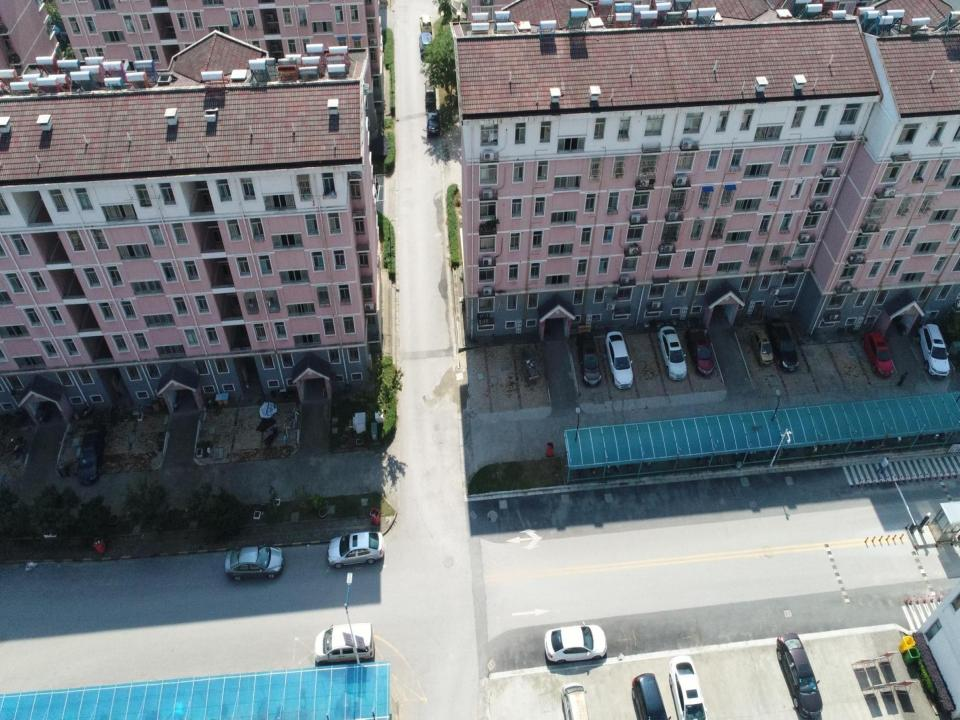car: (776, 632, 824, 719), (544, 621, 607, 663), (314, 622, 376, 664), (669, 654, 706, 719), (327, 531, 385, 568), (224, 546, 284, 580), (917, 322, 950, 380), (76, 422, 106, 485), (630, 672, 668, 720), (605, 328, 634, 390), (657, 324, 687, 382), (767, 318, 799, 372), (685, 324, 714, 376), (862, 330, 894, 376), (578, 332, 601, 386), (426, 108, 441, 136), (419, 33, 433, 58), (420, 15, 432, 33)
van: (561, 682, 589, 719), (752, 328, 772, 367), (425, 80, 437, 105)
